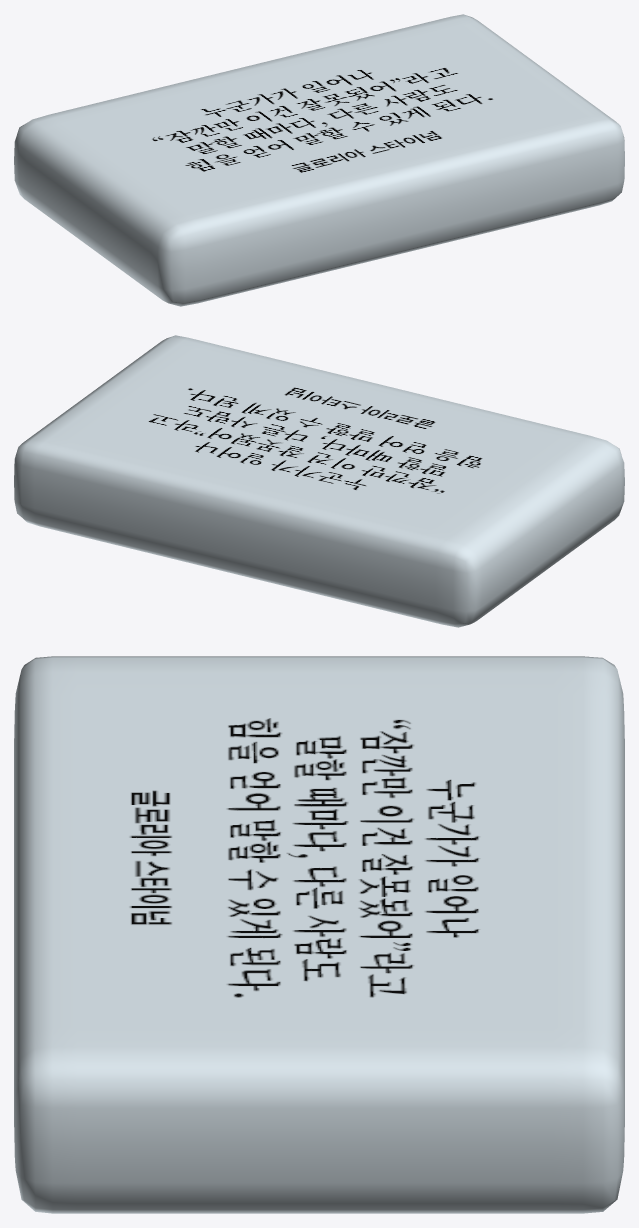
Rendered from Eraser.fbx.
3 views of the same model, one above another, from view 1: azimuth 30°, elevation 25°; view 2: azimuth 150°, elevation 25°; view 3: azimuth 270°, elevation 25° (orthographic). The views are drawn at different scales.
Visible parts, largest first — view 1: Cube; view 2: Cube; view 3: Cube.
Part boxes in pixels (<box>): Cube: <box>14,14,624,306</box>; Cube: <box>14,335,624,627</box>; Cube: <box>14,656,624,1213</box>.
Bounding box in the file's own units: 218 × 36.78 × 130.
